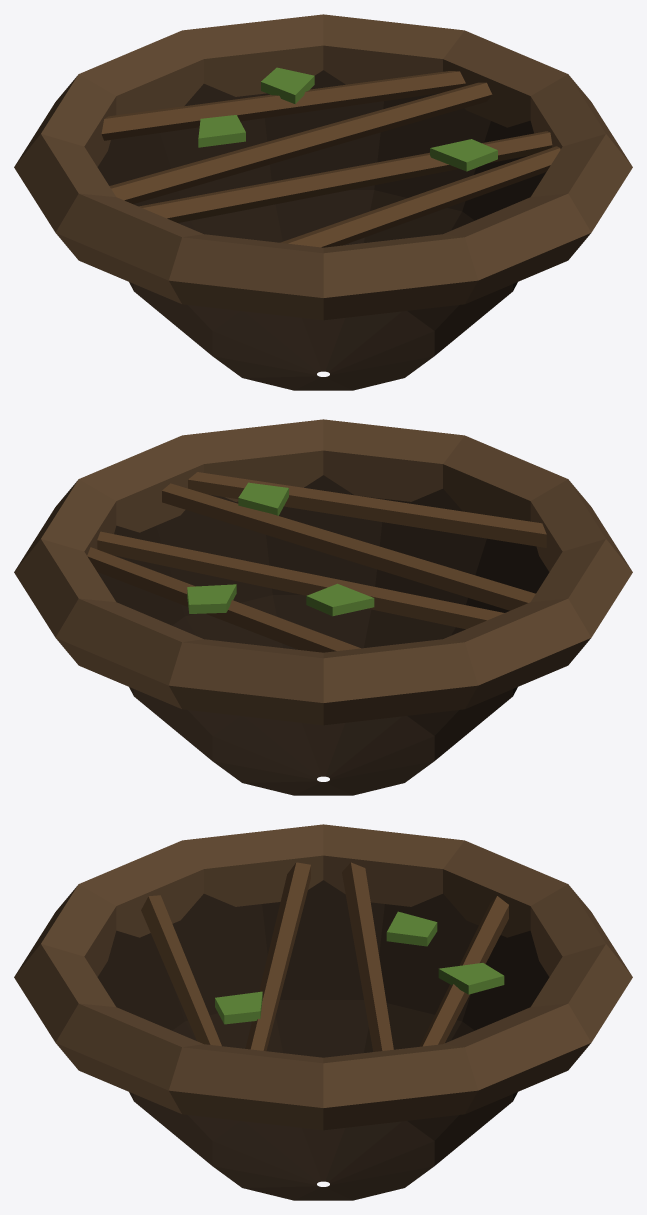
File: Hunter_Pitfall.glb
3 views of the same model, one above another, from view 1: azimuth 30°, elevation 25°; view 2: azimuth 150°, elevation 25°; view 3: azimuth 270°, elevation 25° (orthographic).
Parts seen in each view (by area): view 1: Hunter_Pitfall; view 2: Hunter_Pitfall; view 3: Hunter_Pitfall.
Boxes of the visible parts, x1=… form: Hunter_Pitfall: x1=14, y1=14, x2=632, y2=390; Hunter_Pitfall: x1=14, y1=419, x2=632, y2=795; Hunter_Pitfall: x1=14, y1=824, x2=632, y2=1200.
Size of the model in its own units: 1.83 by 0.7844 by 1.83.
